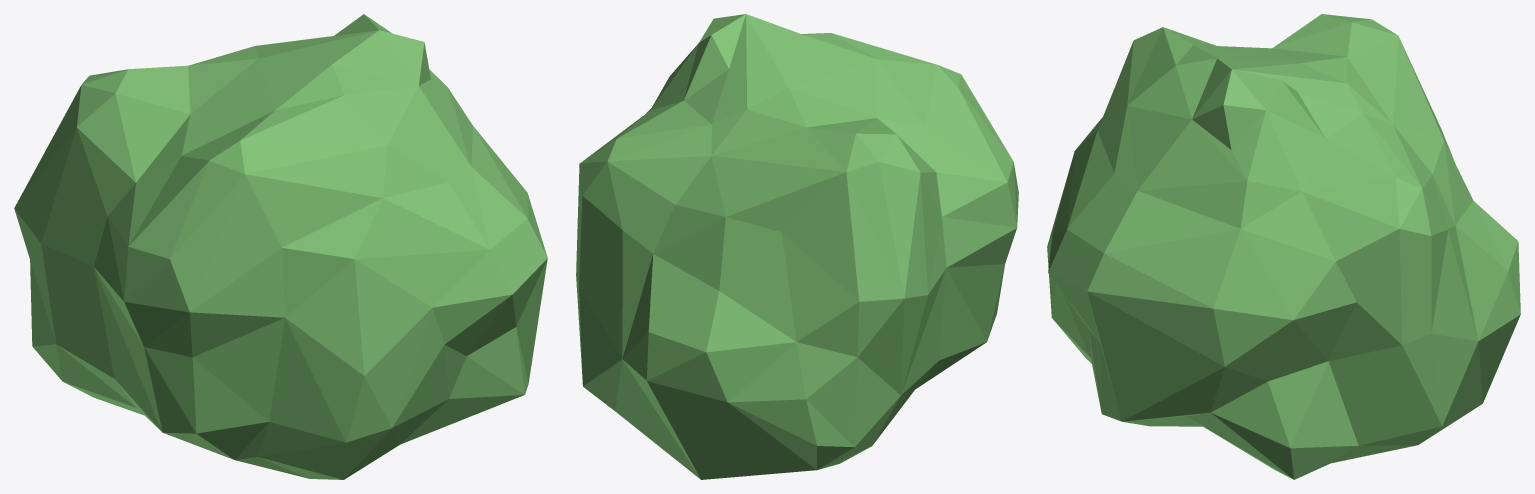
The model's file is Berry_bushes.fbx.
3 views of the same model, side by side, from view 1: azimuth 30°, elevation 25°; view 2: azimuth 150°, elevation 25°; view 3: azimuth 270°, elevation 25° (orthographic). The views are drawn at different scales.
Visible parts, largest first — view 1: Cube; view 2: Cube; view 3: Cube.
Part boxes in pixels (box(x1,y1,x2,y2)): Cube: box(14, 14, 547, 479); Cube: box(576, 14, 1018, 479); Cube: box(1047, 14, 1520, 479).
Size of the model in its own units: 64.09 by 58.08 by 66.9.
